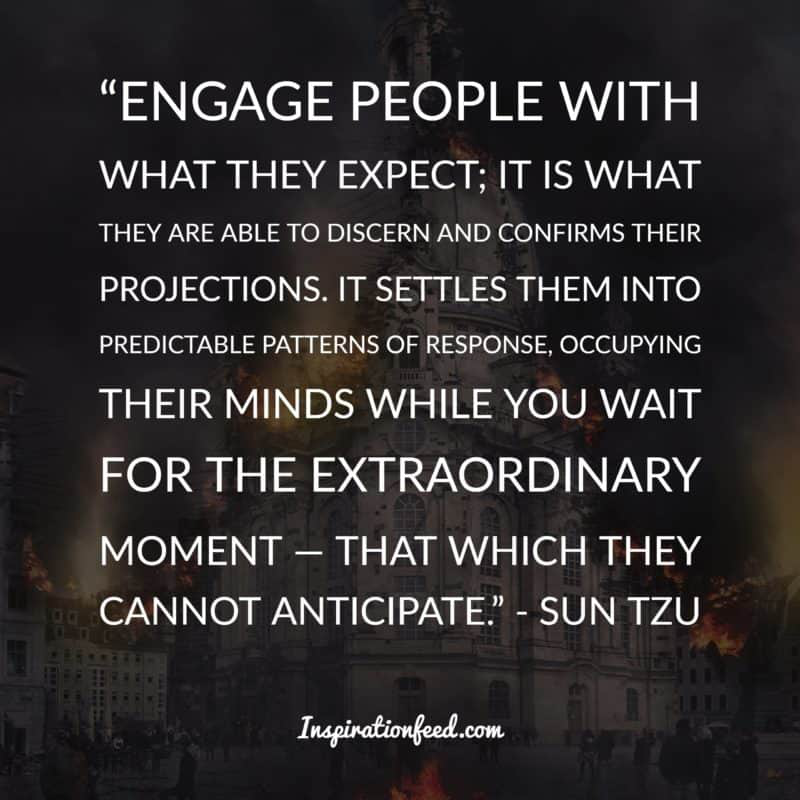latin: (98, 530, 703, 634), (120, 75, 701, 129), (99, 453, 702, 505), (96, 154, 703, 198), (96, 384, 703, 424), (99, 271, 703, 308), (97, 328, 704, 362), (96, 217, 703, 249)
